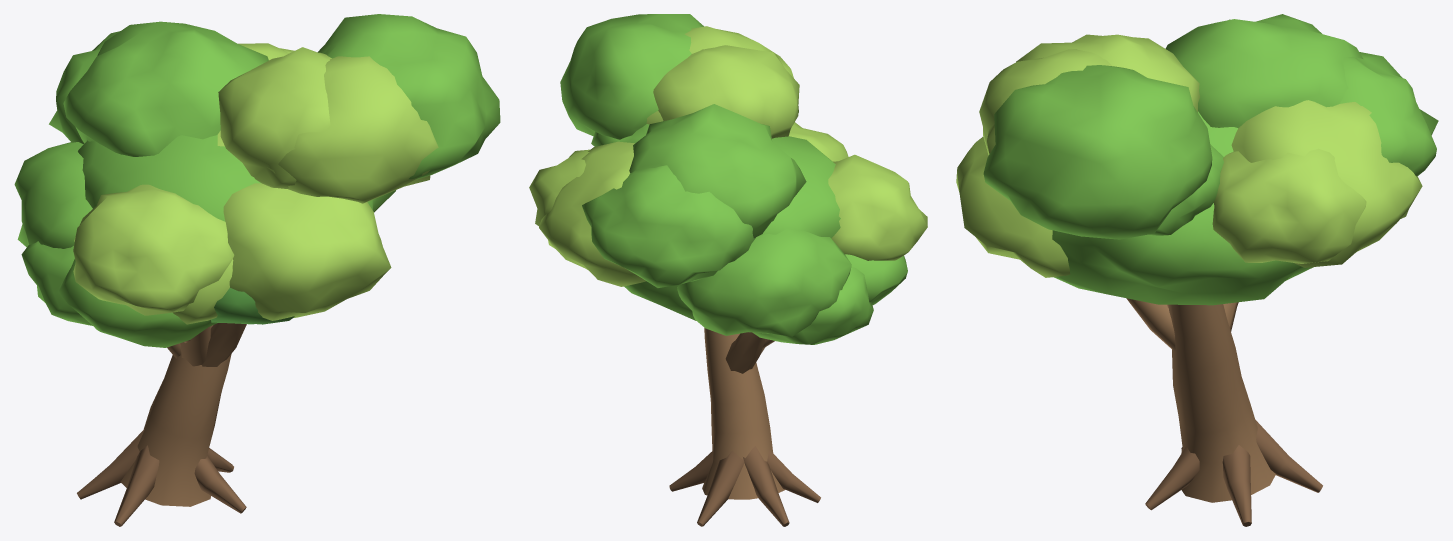
The model's file is Tree_C.fbx.
3 renders of one model, left to right at view 1: azimuth 30°, elevation 25°; view 2: azimuth 150°, elevation 25°; view 3: azimuth 270°, elevation 25°, orthographic. The views are drawn at different scales.
Parts seen in each view (by area): view 1: Tree_C; view 2: Tree_C; view 3: Tree_C.
Boxes of the visible parts, <box> form: Tree_C: <box>14,14,500,526</box>; Tree_C: <box>529,14,927,526</box>; Tree_C: <box>956,14,1438,526</box>.
Size of the model in its own units: 3.17 by 3.55 by 3.09.
